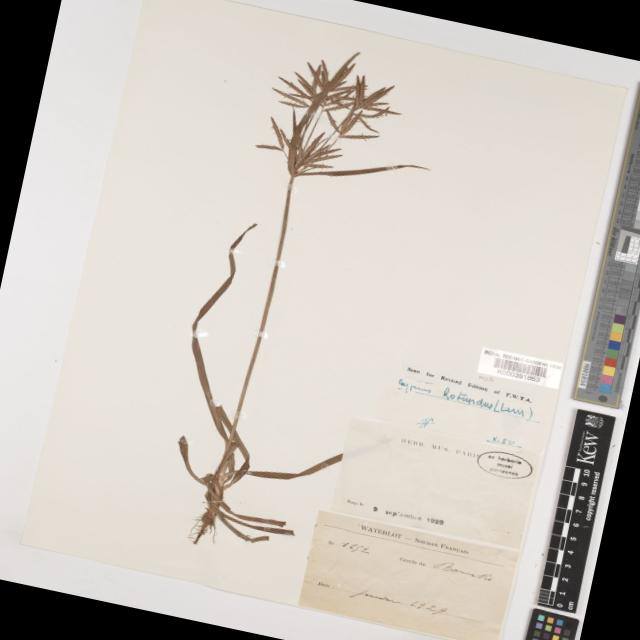cyperus: (242, 34, 418, 194)
